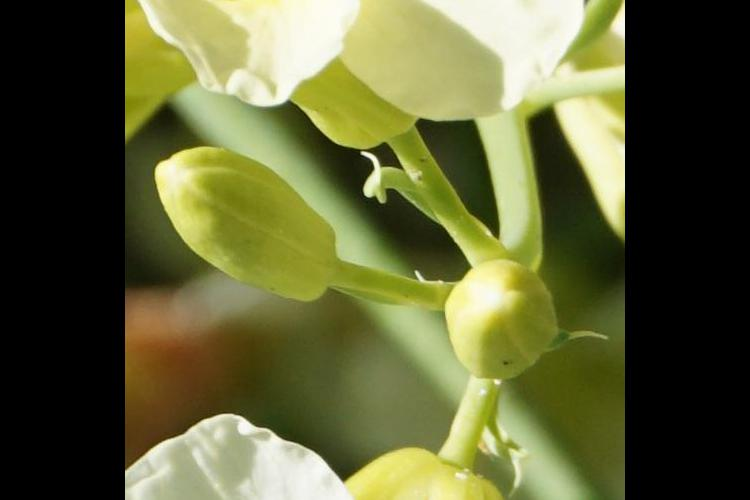bud: (163, 128, 332, 331), (434, 244, 565, 422)
white: (170, 1, 589, 113)
